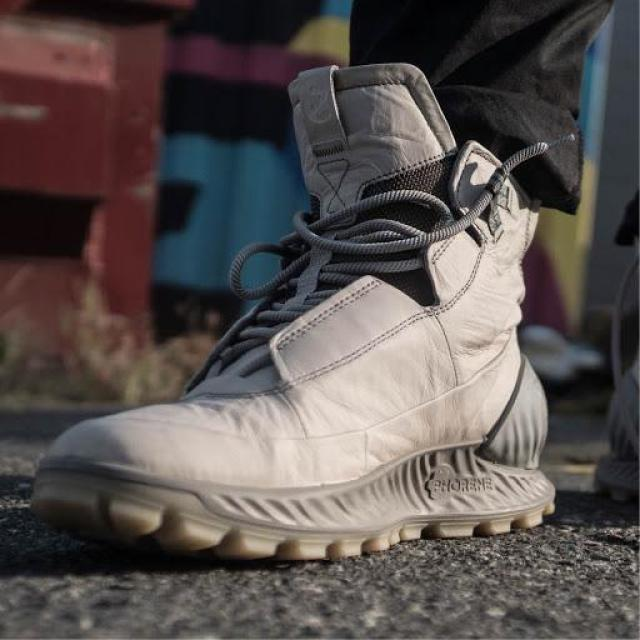shoe: (4, 61, 585, 571)
